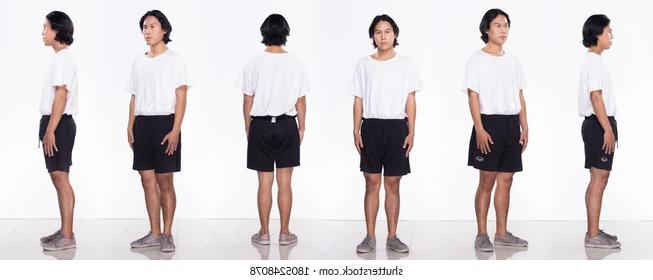Shorts: (466, 112, 525, 173), (245, 113, 303, 173), (129, 114, 183, 174), (359, 117, 412, 177), (39, 114, 79, 173), (581, 115, 621, 171)
short sleeve shirt: (349, 51, 424, 122), (235, 49, 311, 119), (459, 47, 528, 118), (126, 49, 197, 116), (38, 47, 80, 120), (577, 50, 616, 119), (356, 273, 356, 273)
